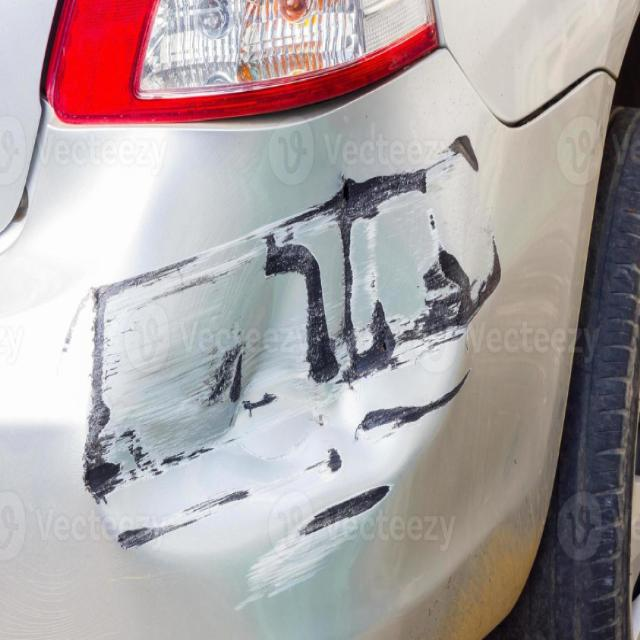Scratch: (85, 137, 500, 500), (237, 487, 389, 608), (265, 235, 339, 382), (118, 491, 249, 548), (357, 370, 470, 433), (300, 485, 389, 535), (208, 344, 242, 404), (63, 290, 94, 352), (450, 136, 479, 172), (243, 393, 277, 417), (307, 449, 342, 472), (328, 449, 342, 472)
